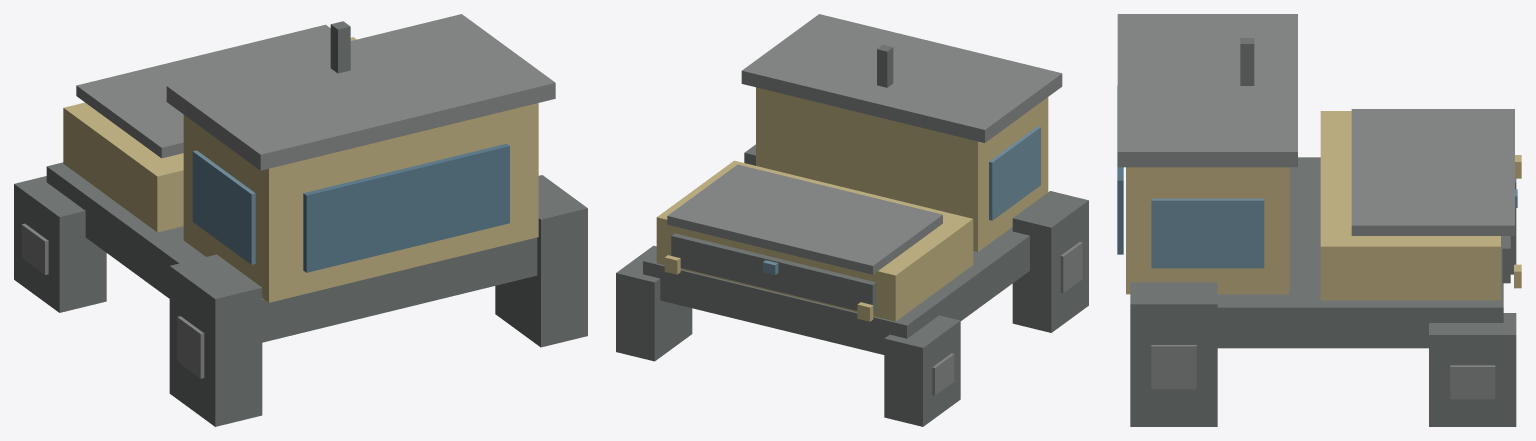
The model's file is tractor_2x2.glb.
3 views of the same model, side by side, from view 1: azimuth 30°, elevation 25°; view 2: azimuth 150°, elevation 25°; view 3: azimuth 270°, elevation 25° (orthographic). The views are drawn at different scales.
Parts seen in each view (by area): view 1: tractor_2x2; view 2: tractor_2x2; view 3: tractor_2x2.
Boxes of the visible parts, left/top/right/bottom form: tractor_2x2: left=14, top=14, right=587, bottom=426; tractor_2x2: left=616, top=14, right=1088, bottom=426; tractor_2x2: left=1117, top=14, right=1521, bottom=426.
Size of the model in its own units: 2.98 by 2.34 by 2.87.
